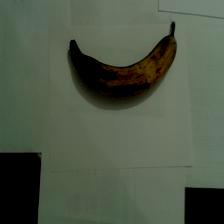Banana Rotten: (61, 34, 182, 103)
